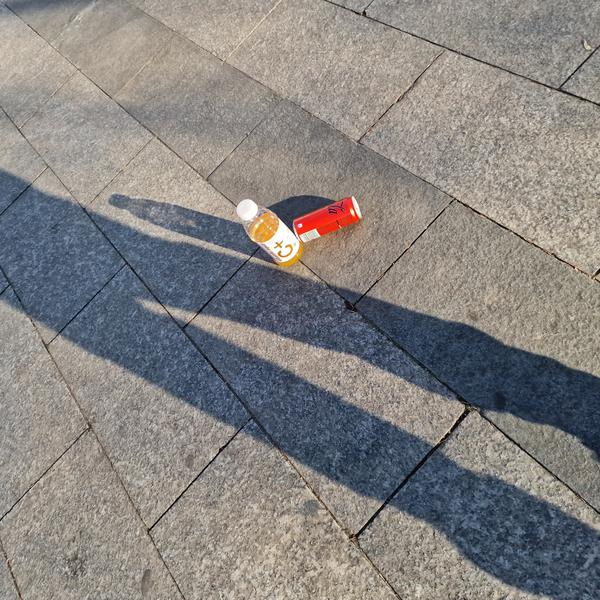can: (289, 191, 366, 248)
plastic_bottle: (226, 189, 311, 274)
